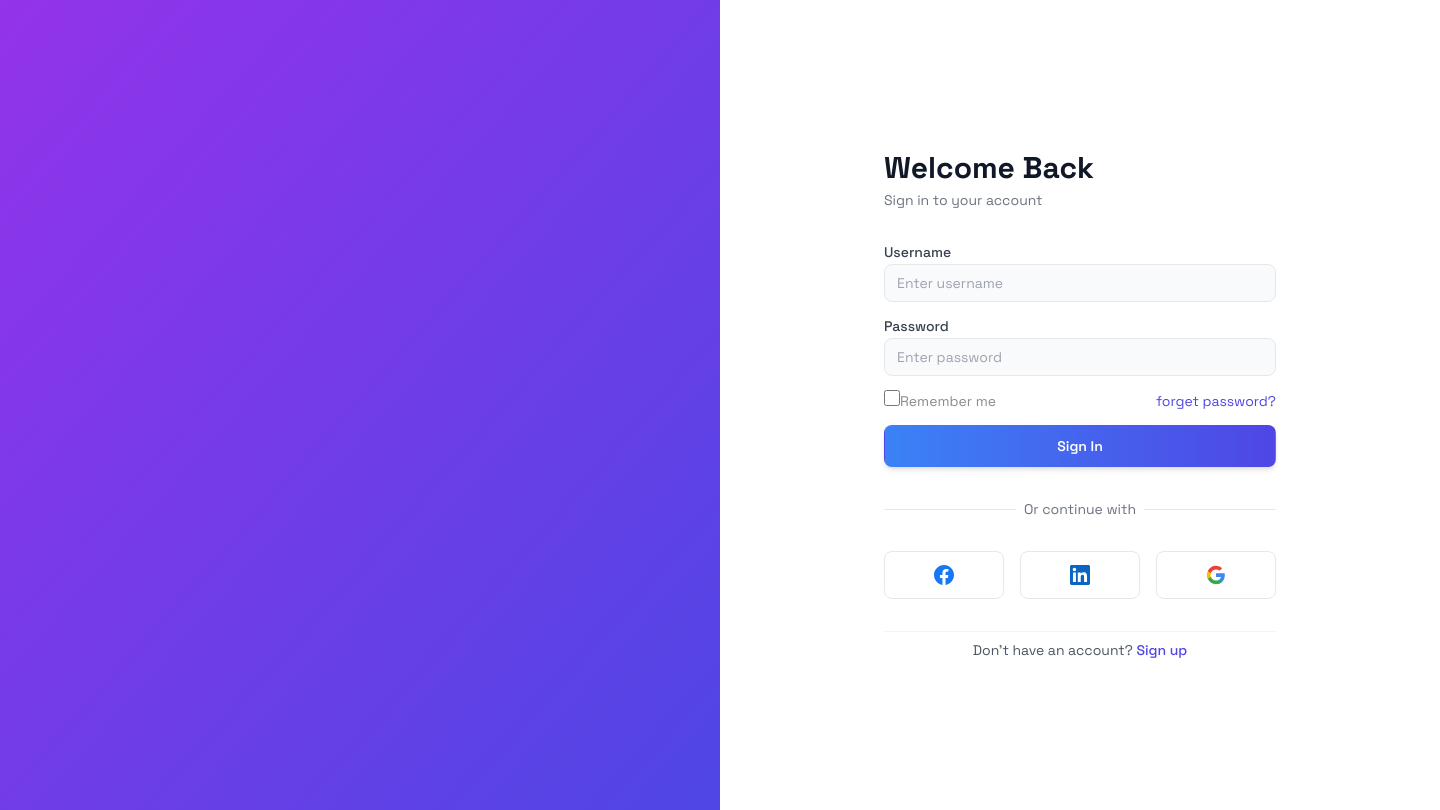
Test case: LoginPage › handles network error gracefully
Type "admin" into the field labelled "Username".
click(1080, 283); type("admin")  # box [884,264,1276,302]
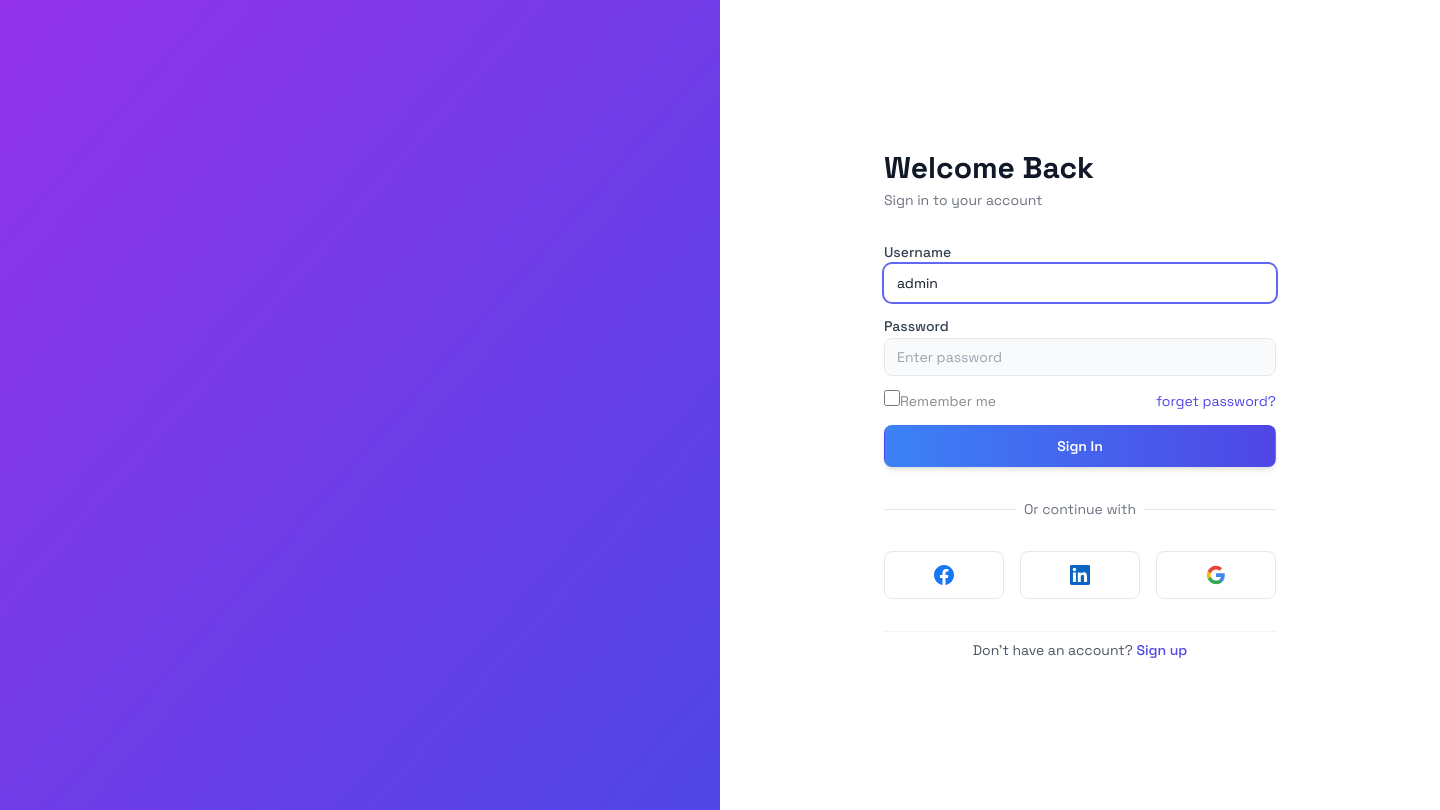
Type "password123" into the password field labelled "Password".
click(1080, 357); type("password123")  # box [884,338,1276,376]
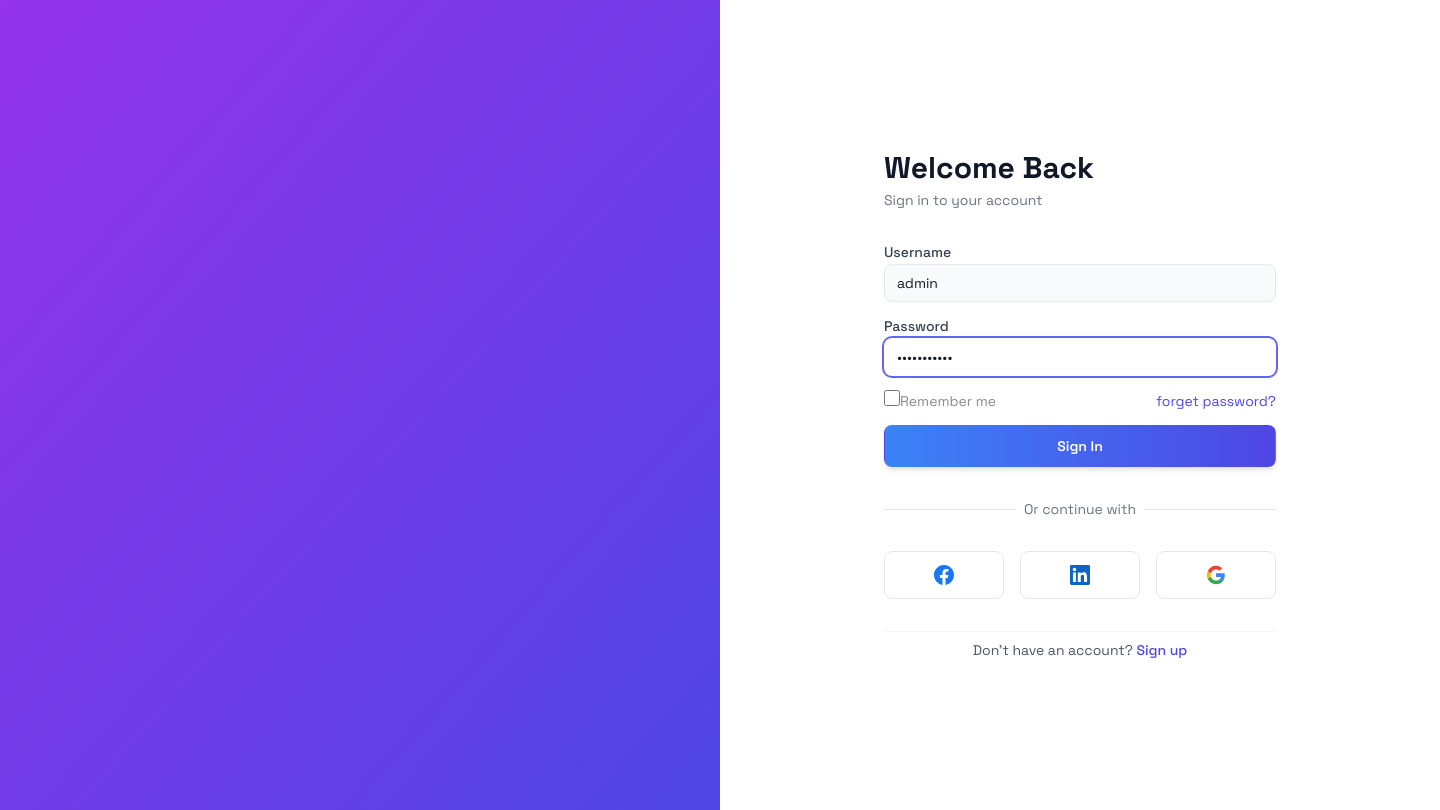
Click the button "Sign In".
click(1080, 446)  # box [884,425,1276,467]
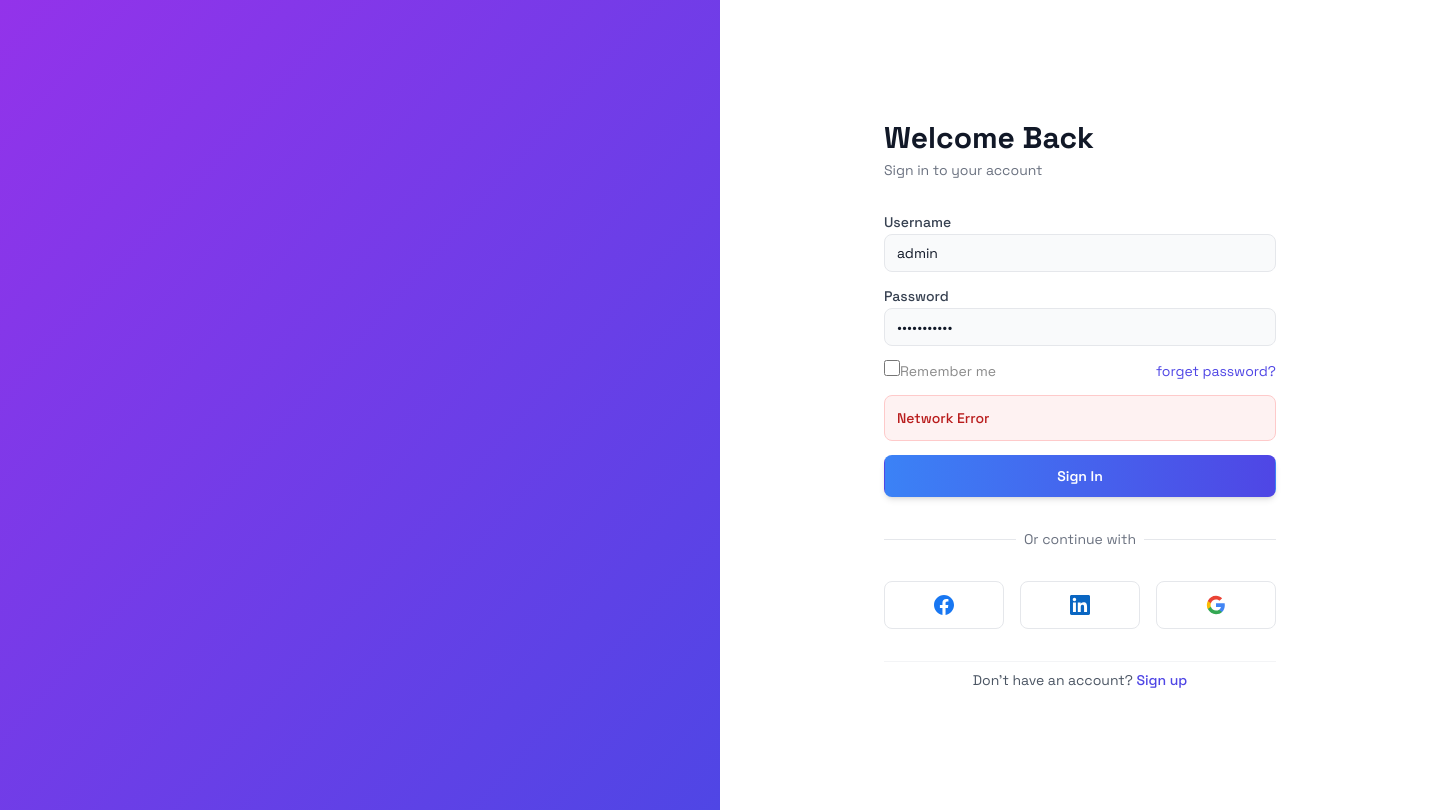
Expected: the text "Network Error" is shown, [884,395,1276,441]
